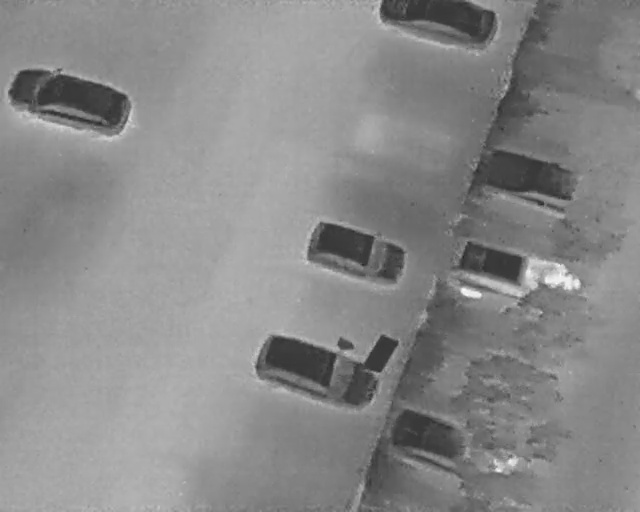Car: (380, 397, 535, 501), (441, 231, 593, 330), (246, 324, 389, 418), (0, 55, 136, 143), (471, 138, 599, 224), (298, 212, 417, 293), (375, 0, 501, 53)
